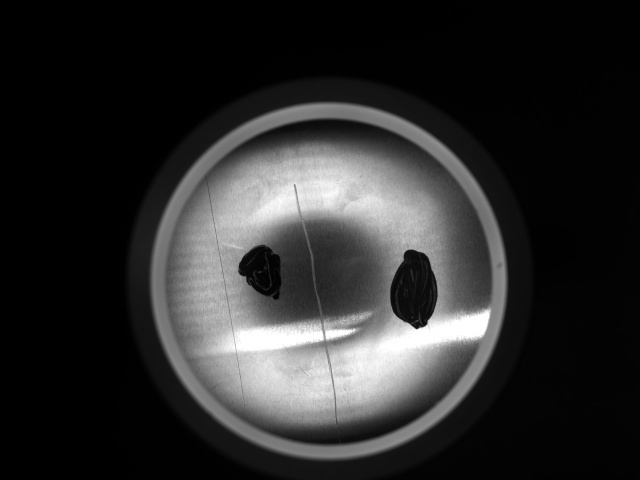ca_shang: (291, 184, 341, 429), (203, 177, 247, 416)
zang_wu: (384, 249, 439, 332), (237, 243, 289, 300)
